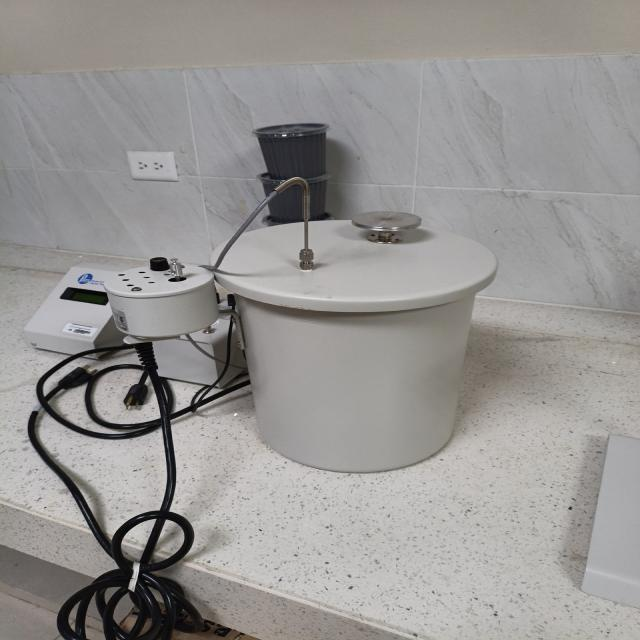Bomba Calorimetrica de Oxigeno: (105, 194, 496, 472)
